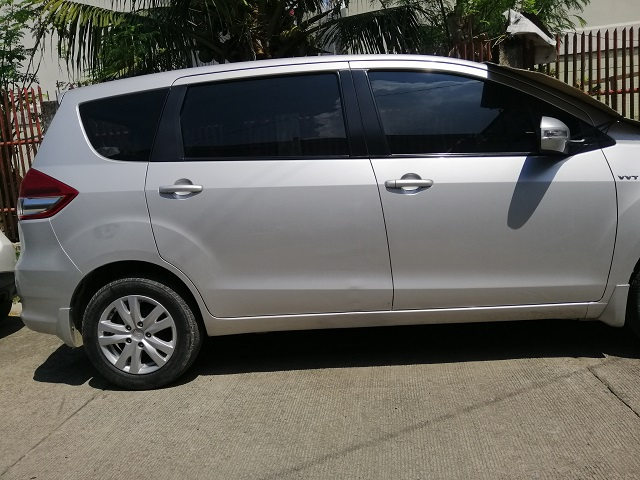car: (18, 55, 640, 388)
